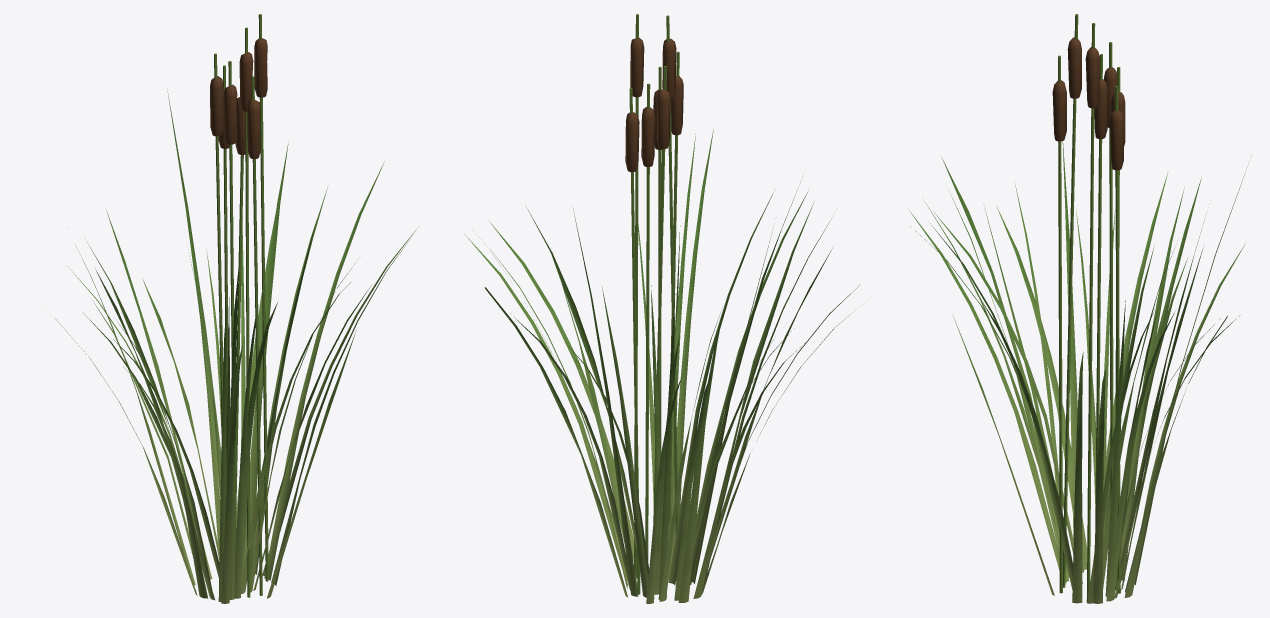
The model's file is cattails.glb.
3 views of the same model, side by side, from view 1: azimuth 30°, elevation 25°; view 2: azimuth 150°, elevation 25°; view 3: azimuth 270°, elevation 25° (orthographic).
Parts seen in each view (by area): view 1: Cattails; view 2: Cattails; view 3: Cattails.
Part boxes in pixels (x1,y1,x2,y2): Cattails: (55,14,417,603); Cattails: (465,14,862,603); Cattails: (909,14,1247,603).
Size of the model in its own units: 1.19 by 1.71 by 0.9479.
Materials: 3 (1 with a texture image).
